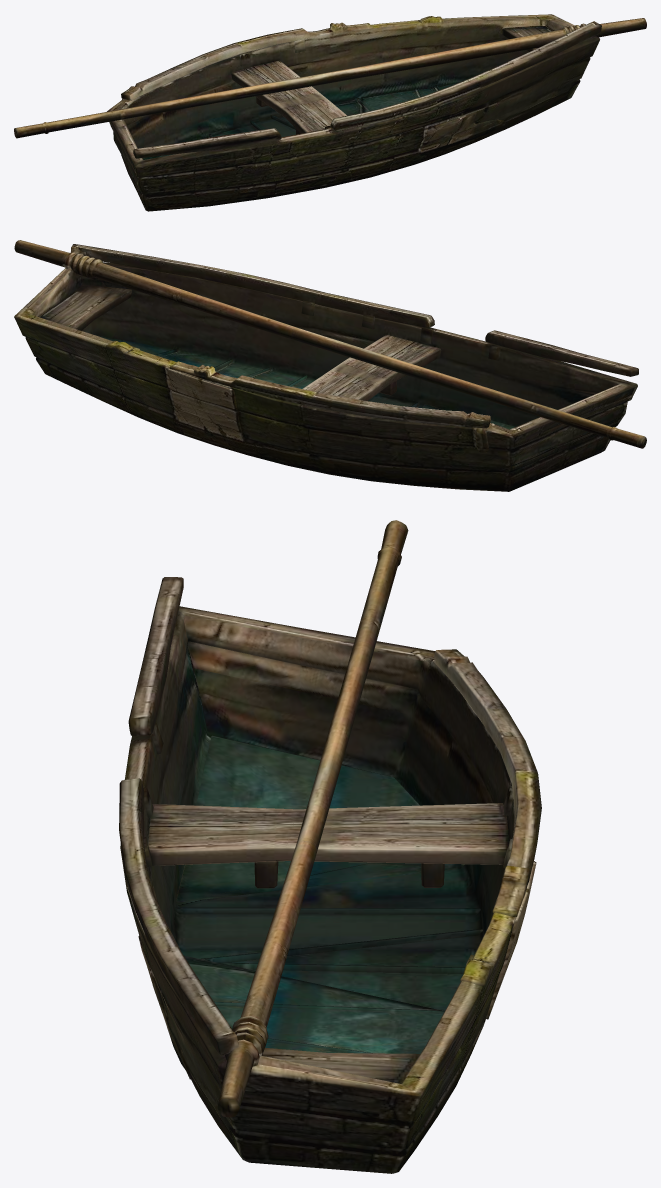
The model's file is act1-a06-5-fen-punt.glb.
3 views of the same model, one above another, from view 1: azimuth 30°, elevation 25°; view 2: azimuth 150°, elevation 25°; view 3: azimuth 270°, elevation 25° (orthographic). The views are drawn at different scales.
Parts seen in each view (by area): view 1: act1-a06-5-fen-punt; view 2: act1-a06-5-fen-punt; view 3: act1-a06-5-fen-punt.
Boxes of the visible parts, x1=… form: act1-a06-5-fen-punt: x1=14, y1=14, x2=646, y2=211; act1-a06-5-fen-punt: x1=14, y1=240, x2=646, y2=491; act1-a06-5-fen-punt: x1=119, y1=520, x2=541, y2=1173.
Size of the model in its own units: 3.4 by 0.4727 by 1.06.
Materials: 1 (1 with a texture image).
